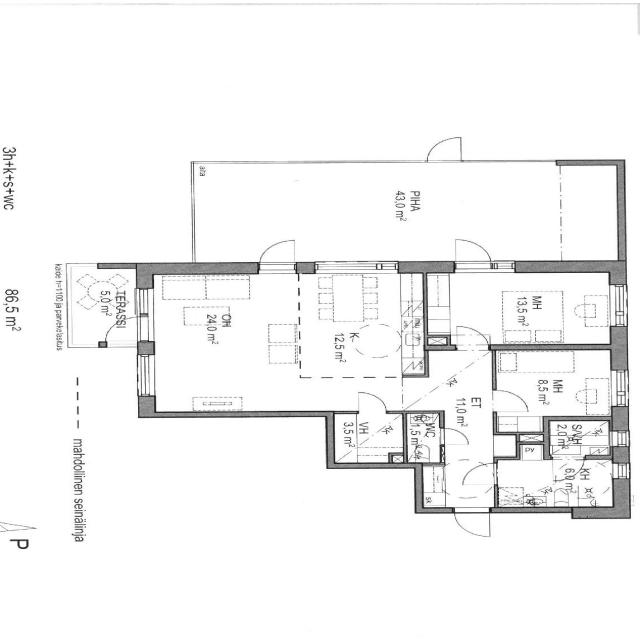door: (445, 235, 497, 271), (253, 237, 302, 273), (424, 134, 468, 164), (452, 507, 493, 538), (103, 314, 144, 345), (489, 388, 533, 414), (451, 324, 491, 350), (459, 462, 498, 488), (354, 391, 388, 414), (441, 427, 471, 446)
window: (312, 259, 402, 275), (604, 280, 632, 330), (132, 348, 158, 400), (608, 368, 634, 410), (132, 285, 156, 320), (490, 258, 517, 273), (610, 430, 632, 448)
zone: (146, 271, 299, 417), (423, 270, 615, 347), (294, 268, 426, 378), (492, 346, 618, 418), (493, 457, 618, 510), (71, 265, 138, 348), (331, 411, 406, 464), (546, 418, 613, 458), (404, 411, 441, 463)
